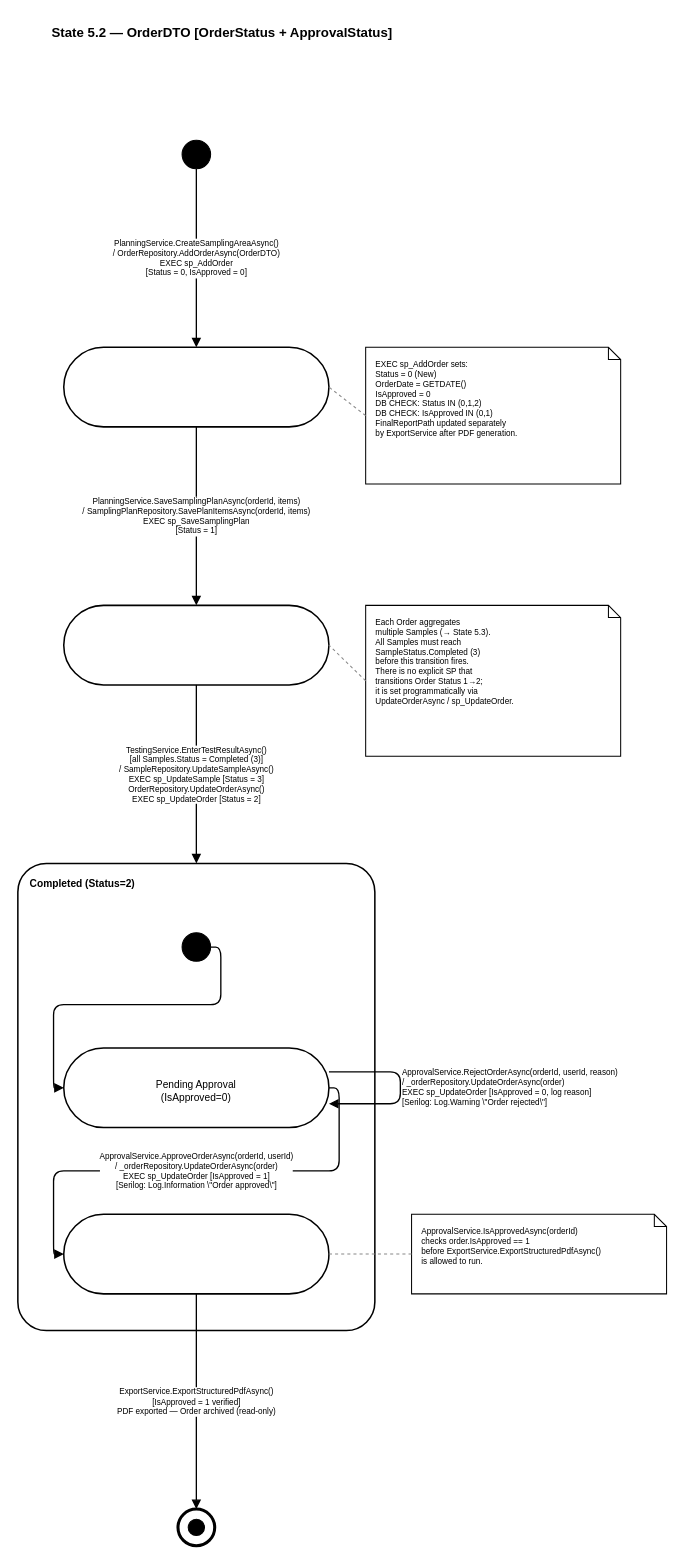
Image size: 685x1565. Some labels were removed from this diagram. Here are the shapes that lost their labels. From the top down, the centre of each, then its label:
At (x=196, y=386): "New (Status=0, IsApproved=0)".
At (x=196, y=644): "Planned (Status=1, IsApproved=0)".
At (x=196, y=1253): "Approved (IsApproved=1)".
